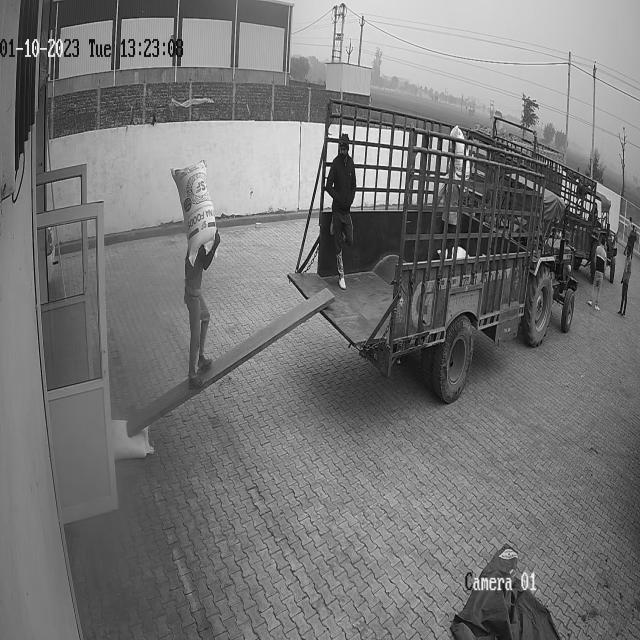sack: (172, 160, 216, 266), (110, 418, 154, 458)
